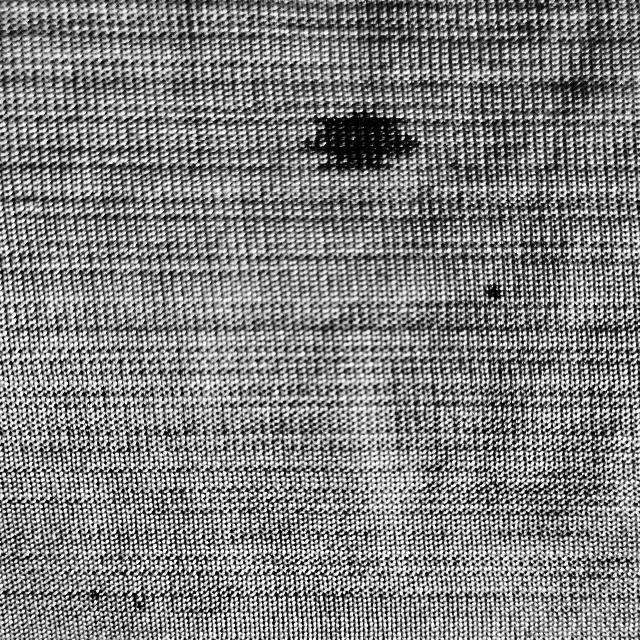Color_defect: (307, 107, 420, 176)
